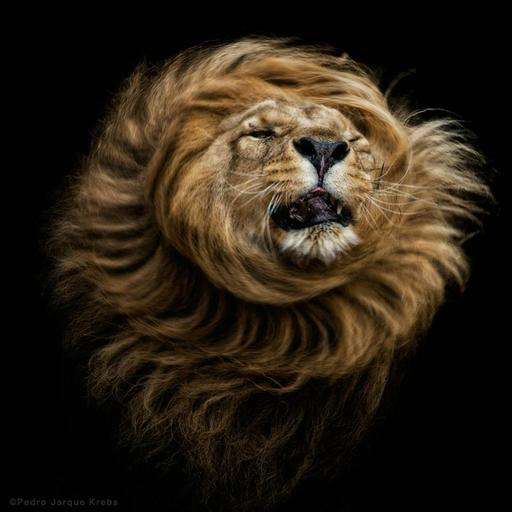Lion: (50, 25, 502, 499)
